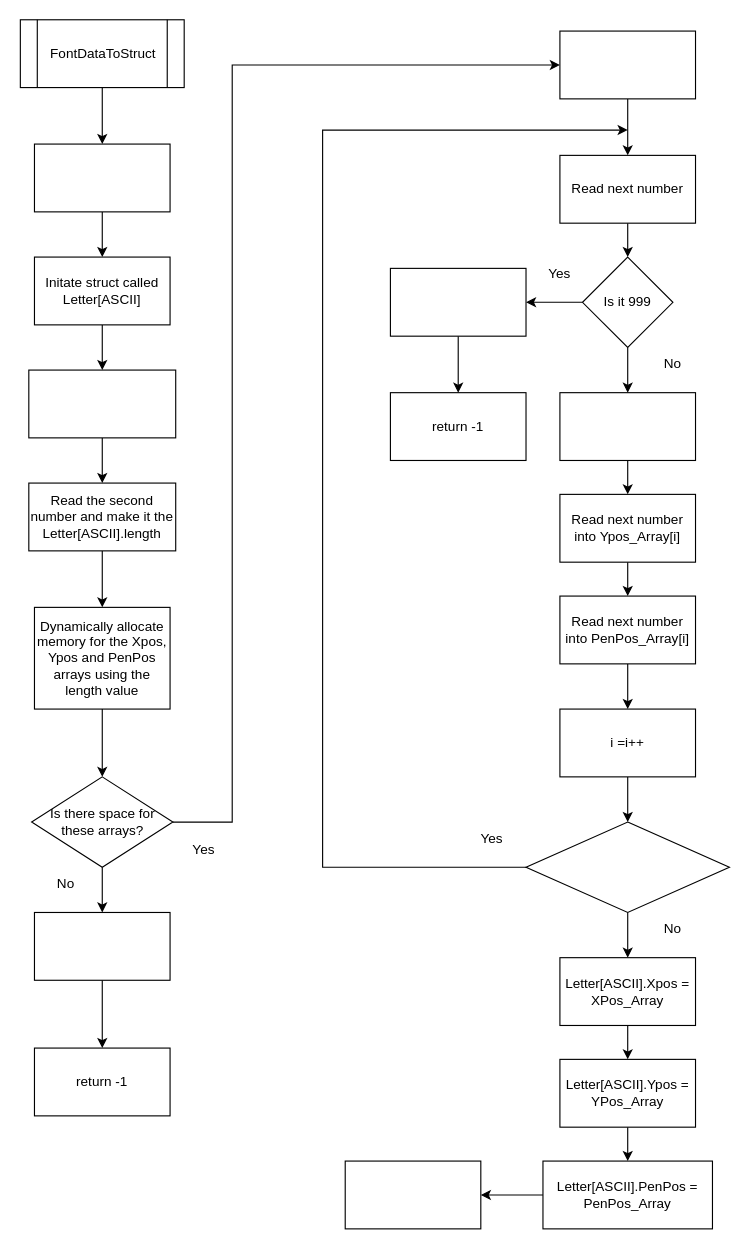
This 749x1249 diagram has some shape labels left out. The centre of each missing label's shape, as x and y in pixels:
Fill the ASCII char in the struct with the letter: [102,403]
i =1: [627,64]
is I less than or = length: [627,866]
printf "FontData.txt formatting error": [457,301]
printf "memory could not be allocated - terminating": [101,945]
put it in Xpos_Array[i]: [627,426]
Read first number and call it ASCII: [101,177]
return 0: [412,1194]
